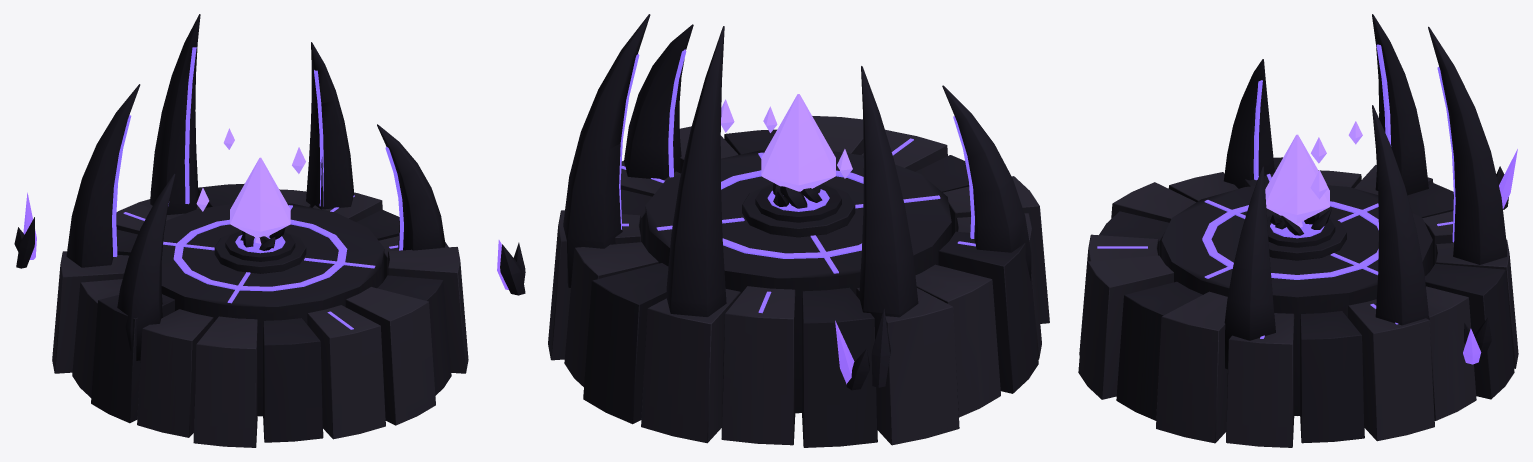
File: prism-reactor-umbra.glb
The picture shows the model from 3 angles, left to right: view 1: azimuth 30°, elevation 25°; view 2: azimuth 150°, elevation 25°; view 3: azimuth 270°, elevation 25°; orthographic projection. The views are drawn at different scales.
Parts seen in each view (by area): view 1: site_prism_reactor_umbra_body, site_prism_reactor_umbra_core, site_prism_reactor_umbra_ruin; view 2: site_prism_reactor_umbra_body, site_prism_reactor_umbra_core, site_prism_reactor_umbra_ruin; view 3: site_prism_reactor_umbra_body, site_prism_reactor_umbra_core, site_prism_reactor_umbra_ruin.
Part boxes in pixels (bbox=[...]): site_prism_reactor_umbra_body: bbox=[14, 14, 468, 447]; site_prism_reactor_umbra_core: bbox=[196, 128, 305, 238]; site_prism_reactor_umbra_ruin: bbox=[240, 227, 285, 250]; site_prism_reactor_umbra_body: bbox=[497, 14, 1049, 447]; site_prism_reactor_umbra_core: bbox=[721, 94, 852, 191]; site_prism_reactor_umbra_ruin: bbox=[773, 183, 822, 208]; site_prism_reactor_umbra_body: bbox=[1078, 14, 1518, 447]; site_prism_reactor_umbra_core: bbox=[1265, 121, 1362, 222]; site_prism_reactor_umbra_ruin: bbox=[1270, 208, 1331, 235].
Size of the model in its own units: 4.82 by 4.05 by 4.87.
